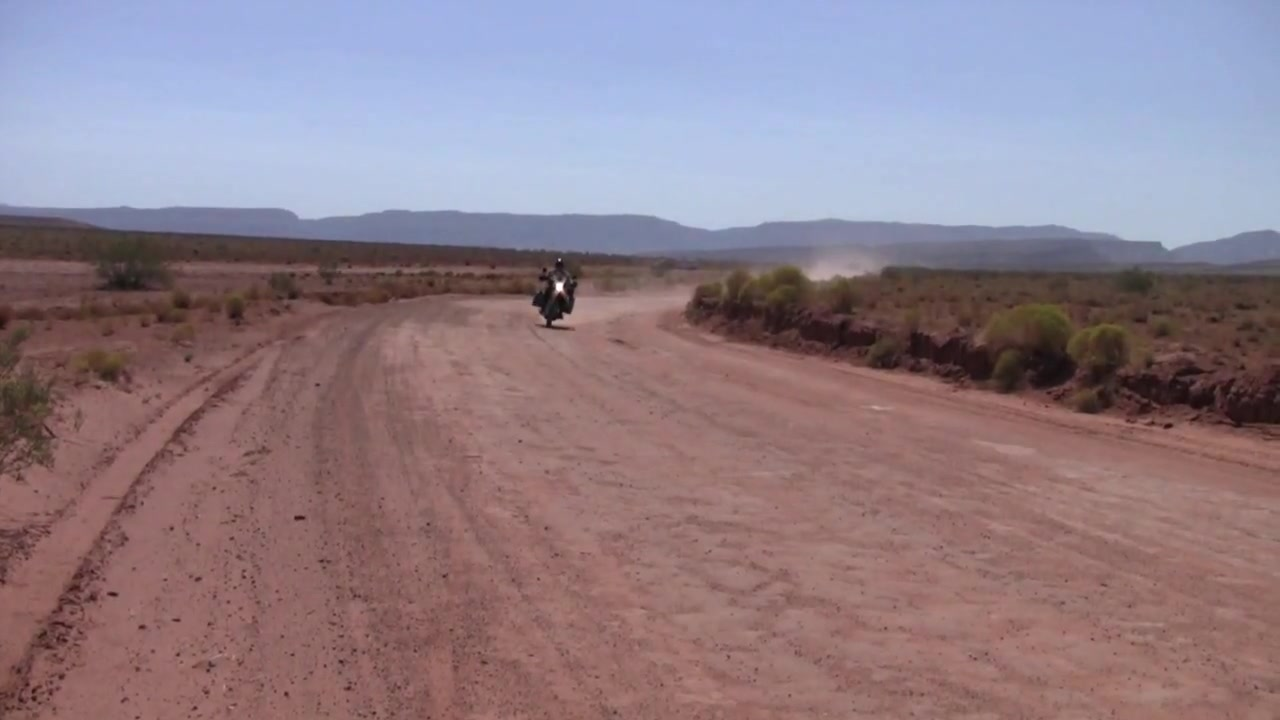motorbike: (531, 261, 580, 324)
